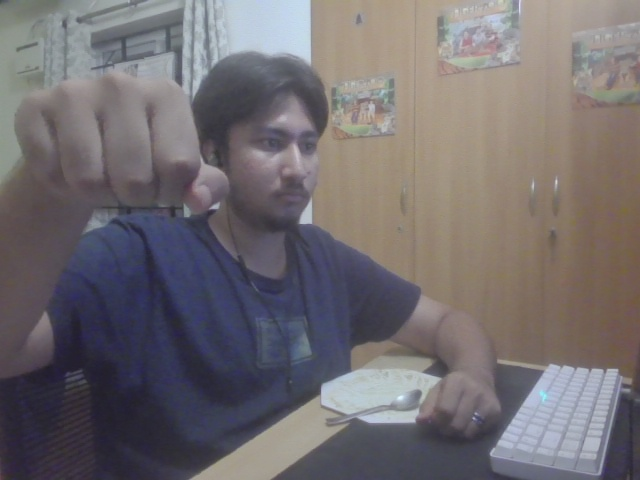yes: (11, 64, 235, 219)
